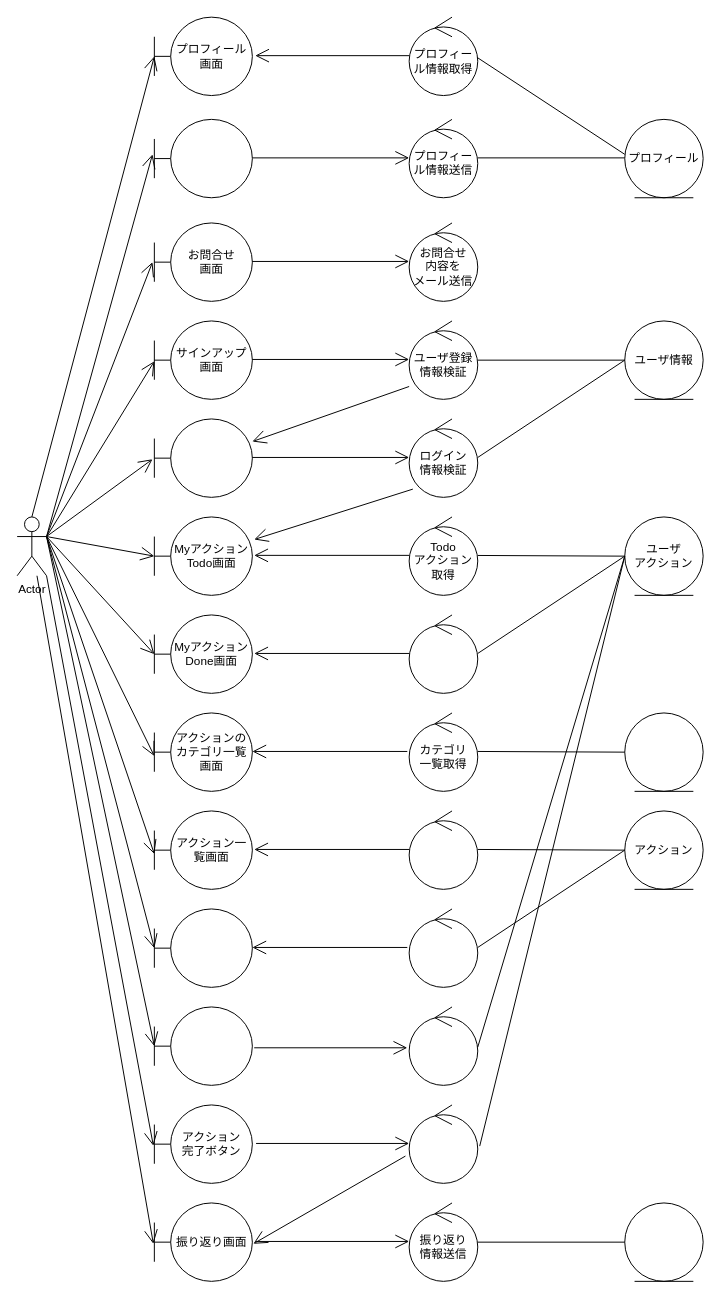
This 720x1299 diagram has some shape labels left out. The centre of each missing label's shape, as x and y in pixels:
"Done アクション 取得" belongs at (x=443, y=653).
"アクション 登録ボタン" belongs at (x=202, y=1045).
"アクション 詳細画面" belongs at (x=202, y=947).
"アクション詳細情報 取得" belongs at (x=443, y=947).
"カテゴリ" belongs at (x=663, y=751).
"カテゴリ別 アクション 一覧取得" belongs at (x=443, y=849).
"サインイン 画面" belongs at (x=202, y=457).
"プロフィール 編集ボタン" belongs at (x=202, y=158).
"ユーザアクションの 状態変更" belongs at (x=443, y=1143).
"ユーザアクションへ 保存" belongs at (x=443, y=1045).
"振り返り情報" belongs at (x=663, y=1241).
